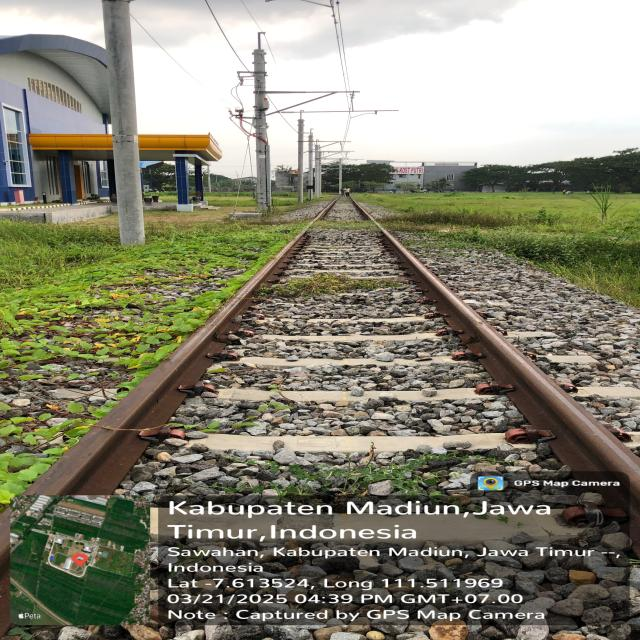rail-detection: (24, 232, 304, 495), (383, 231, 640, 510)
